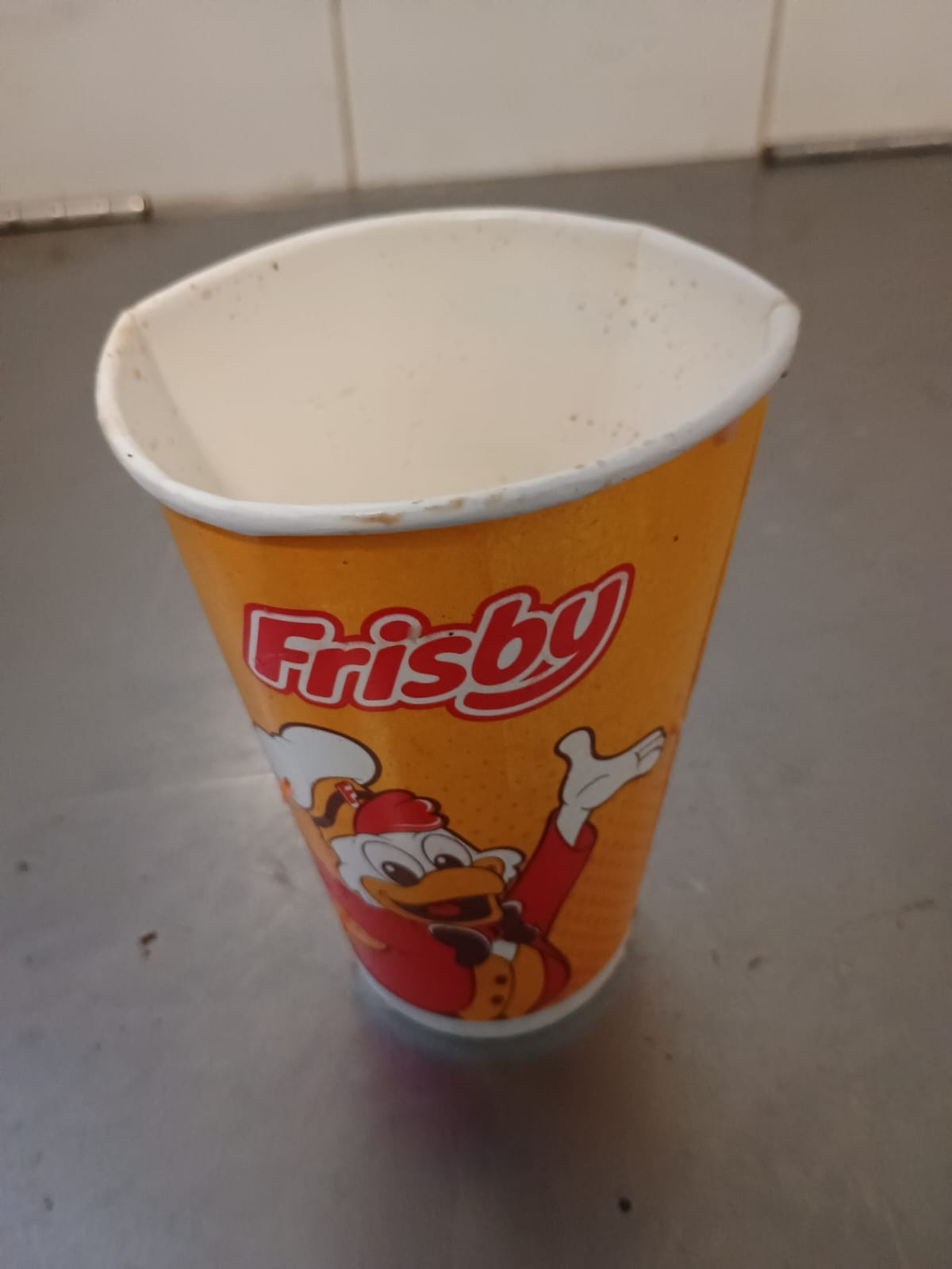Carton: (96, 209, 804, 1035)
